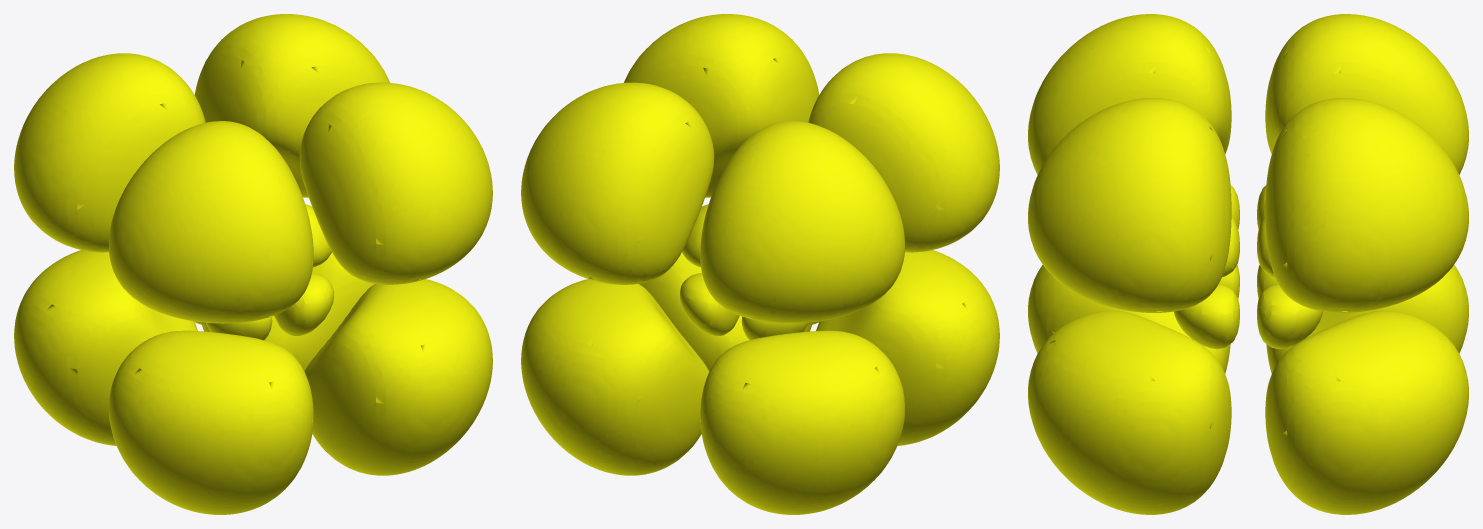
File: orb_n=5_ l=3 _m=-2.fbx
3 renders of one model, left to right at view 1: azimuth 30°, elevation 25°; view 2: azimuth 150°, elevation 25°; view 3: azimuth 270°, elevation 25°, orthographic. The views are drawn at different scales.
Visible parts, largest first — view 1: orb_n=5_ l=3 _m=-2; view 2: orb_n=5_ l=3 _m=-2; view 3: orb_n=5_ l=3 _m=-2.
Part boxes in pixels (x1,y1,x2,y2): orb_n=5_ l=3 _m=-2: (14, 14, 492, 514); orb_n=5_ l=3 _m=-2: (521, 14, 999, 514); orb_n=5_ l=3 _m=-2: (1028, 14, 1468, 514).
Size of the model in its own units: 8373 by 8373 by 8373.
